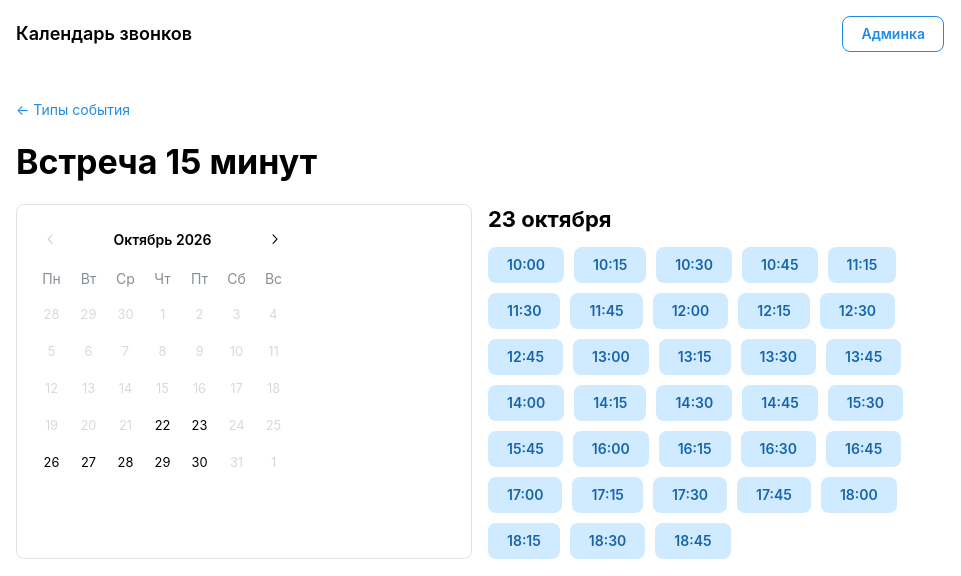
Test: повторный клик по выбранному дню сбрасывает выбор — «Выберите дату в календаре»
Click the button "23" at [200, 426], box [182,408,218,444]
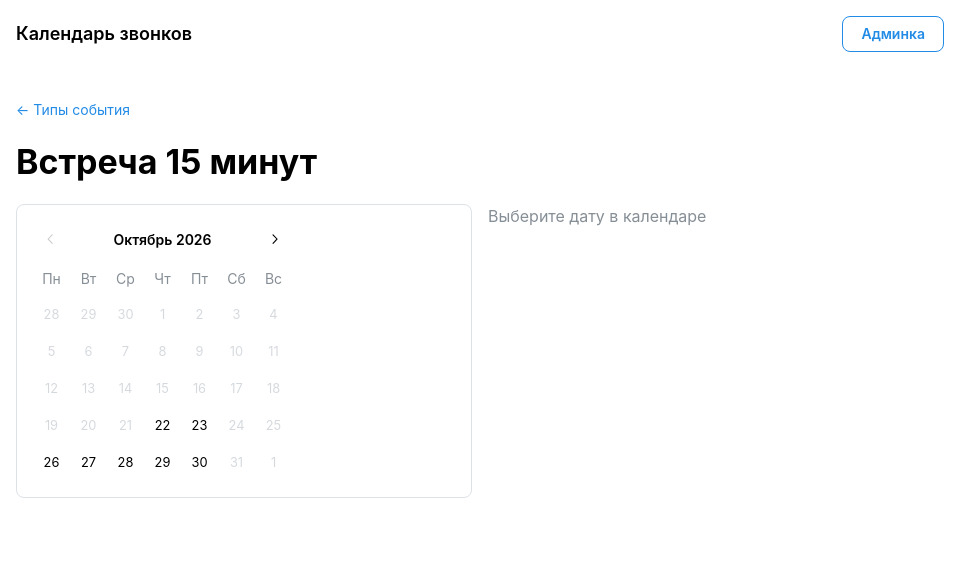
Now the text "Выберите дату в календаре" is shown, box [488,206,706,226]
Now the button "10:00" is gone
